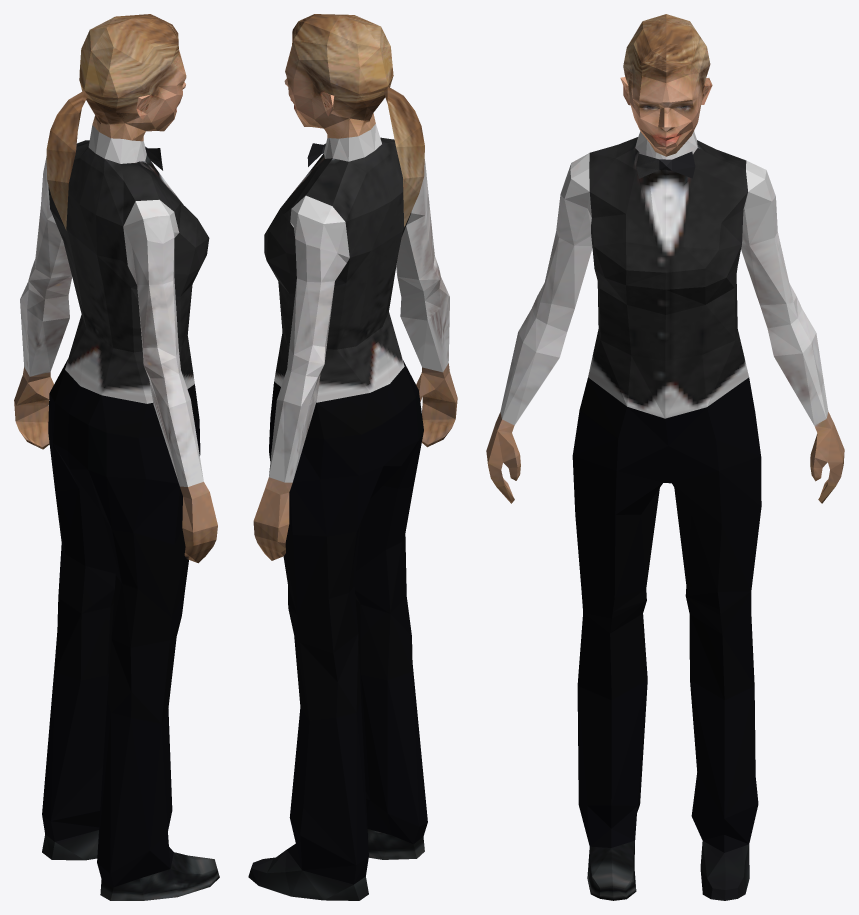
Rendered from vwfycrp.obj.
The picture shows the model from 3 angles, left to right: view 1: azimuth 30°, elevation 25°; view 2: azimuth 150°, elevation 25°; view 3: azimuth 270°, elevation 25°; orthographic projection.
Parts seen in each view (by area): view 1: _Pelvis; view 2: _Pelvis; view 3: _Pelvis.
Part boxes in pixels (left/top/right/bottom): _Pelvis: left=14, top=14, right=219, bottom=900; _Pelvis: left=248, top=14, right=457, bottom=900; _Pelvis: left=486, top=14, right=844, bottom=900.
Bounding box in the file's own units: 0.3251 × 1.8 × 0.6856.
1 material, 1 textured.
